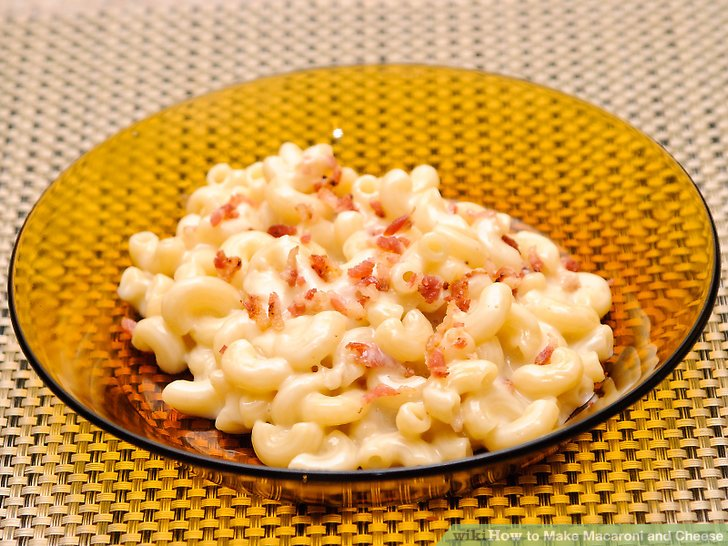macncheese: (102, 134, 613, 487)
